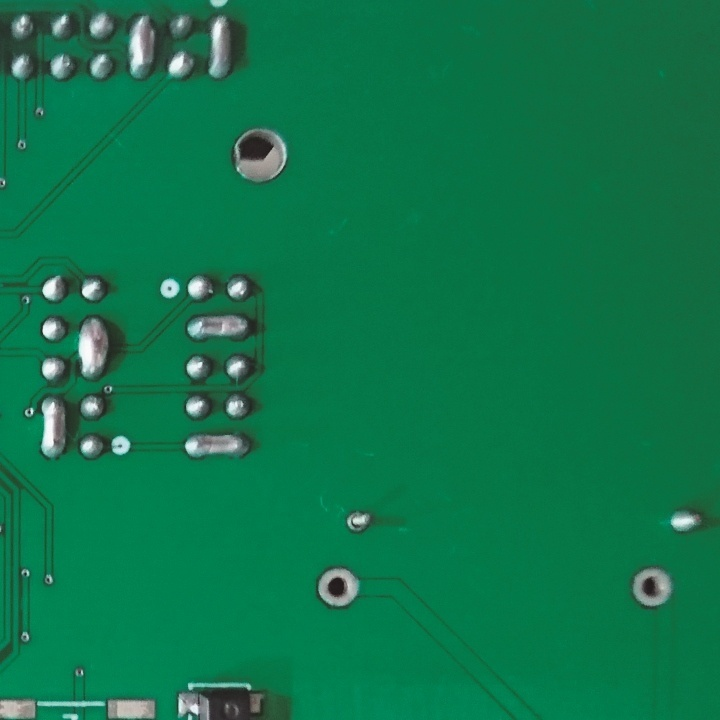F: (315, 565, 361, 609), (630, 565, 676, 608), (343, 508, 376, 537)
P: (76, 312, 113, 382), (183, 431, 254, 466), (127, 12, 158, 80), (183, 312, 254, 341), (207, 15, 236, 85), (39, 393, 65, 462)
